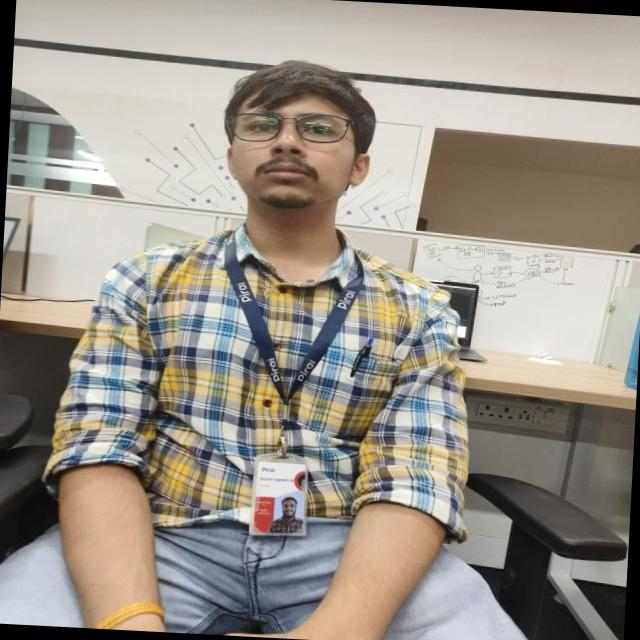id_card: (216, 223, 366, 552)
